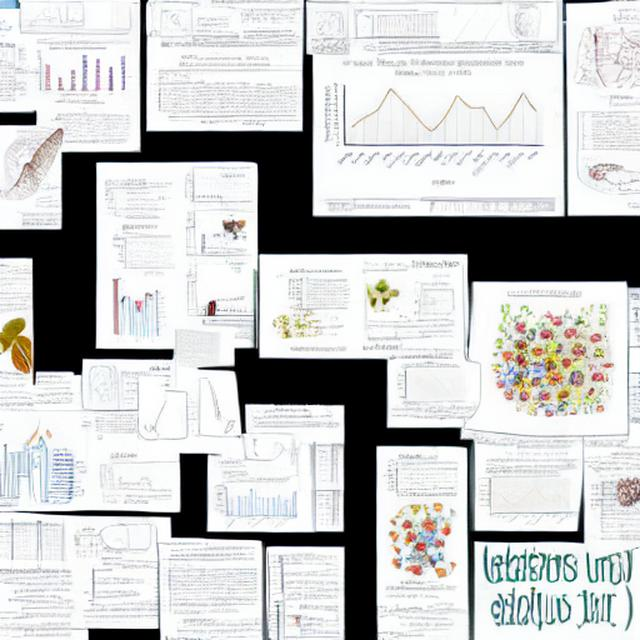Graph: (319, 56, 549, 189), (476, 471, 573, 528), (26, 45, 119, 99), (210, 477, 299, 530), (178, 164, 255, 209), (100, 462, 155, 494)
